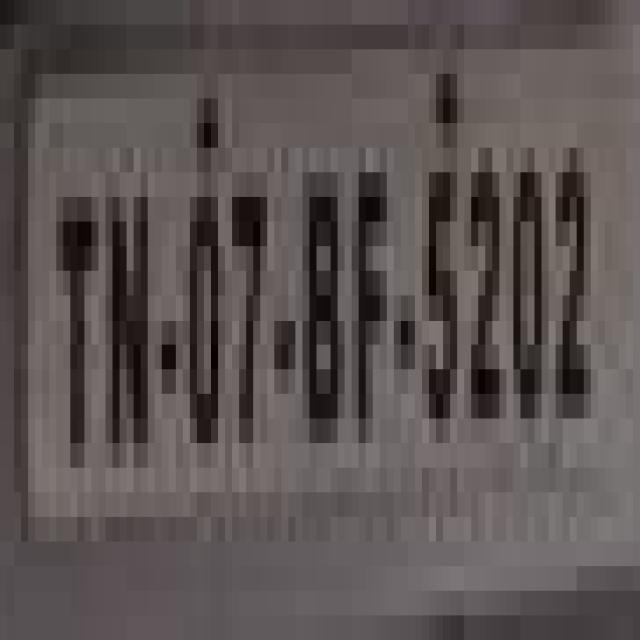plate: (7, 24, 598, 590)
